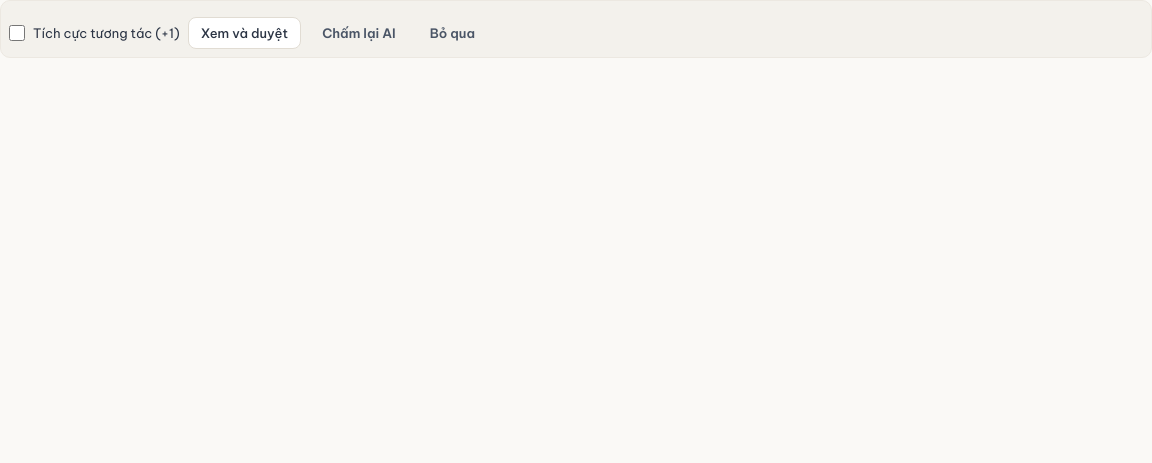
Test: SubmissionReviewPanel › previews the score, follows verdict and bonus changes in the draft, and approves what is shown
This screenshot has width=1152, height=463.
Click the button "Xem và duyệt".
click(244, 33)  # box 188,17 -> 301,49
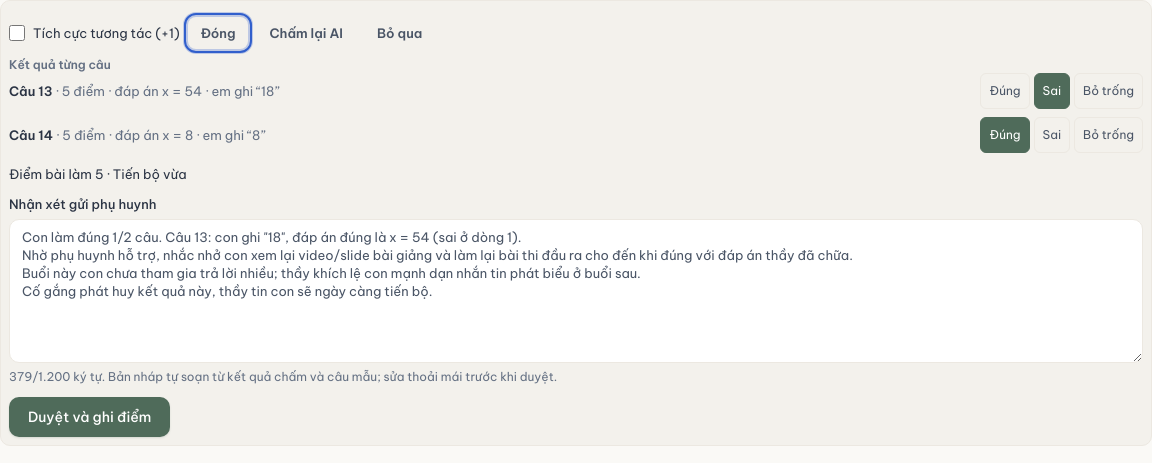
Expected: the message reads "Điểm bài làm 5 · Tiến bộ vừa", 9,166 -> 186,182
Click the checkbox labelled "Tích cực tương tác (+1)".
click(17, 33)  # box 9,25 -> 25,41
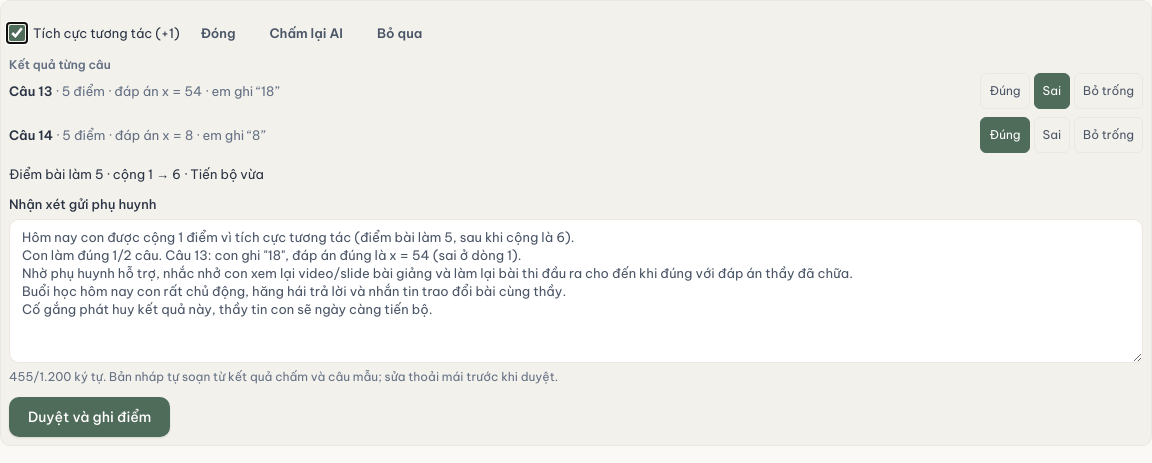
Expected: the message reads "Điểm bài làm 5 · cộng 1 → 6 · Tiến bộ vừa", 9,166 -> 264,182
Click the radio button labelled "Đúng" in the row of "18".
click(1005, 91)  # box 980,73 -> 1030,109
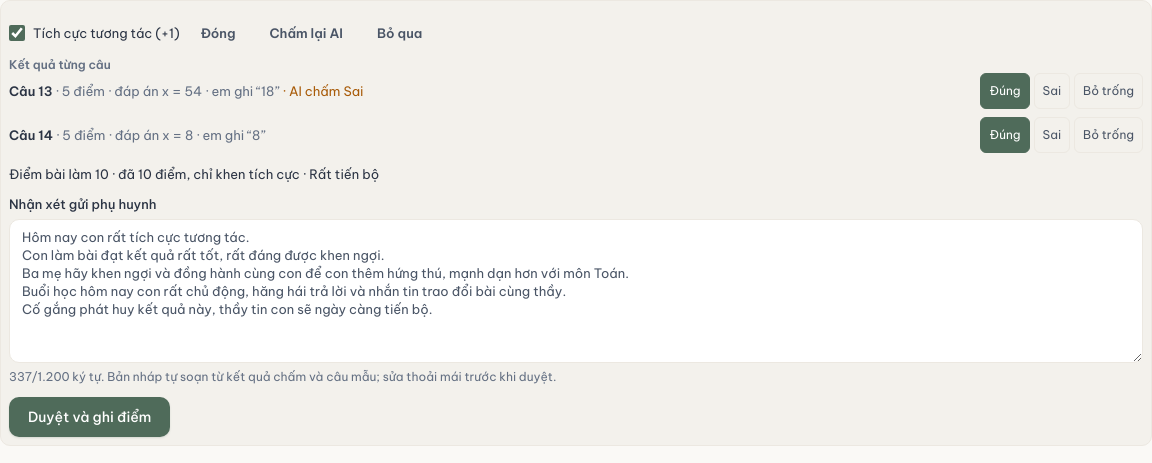
Expected: the message reads "Điểm bài làm 10 · đã 10 điểm, chỉ khen tích cực · Rất tiến bộ", 9,166 -> 379,182
Click the button "Duyệt và ghi điểm".
click(90, 417)  # box 9,397 -> 170,437
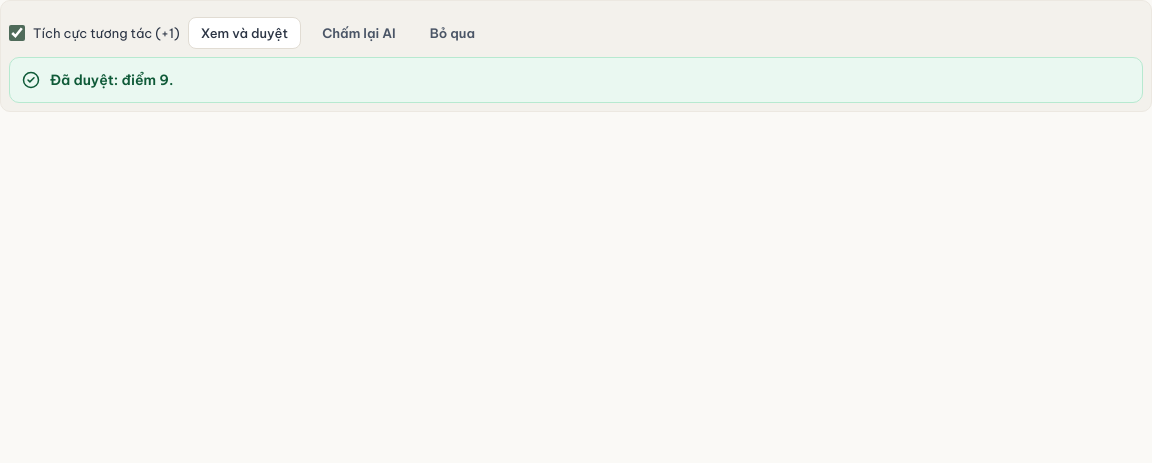
Expected: the text "Đã duyệt: điểm 9." is shown, 50,71 -> 174,89
